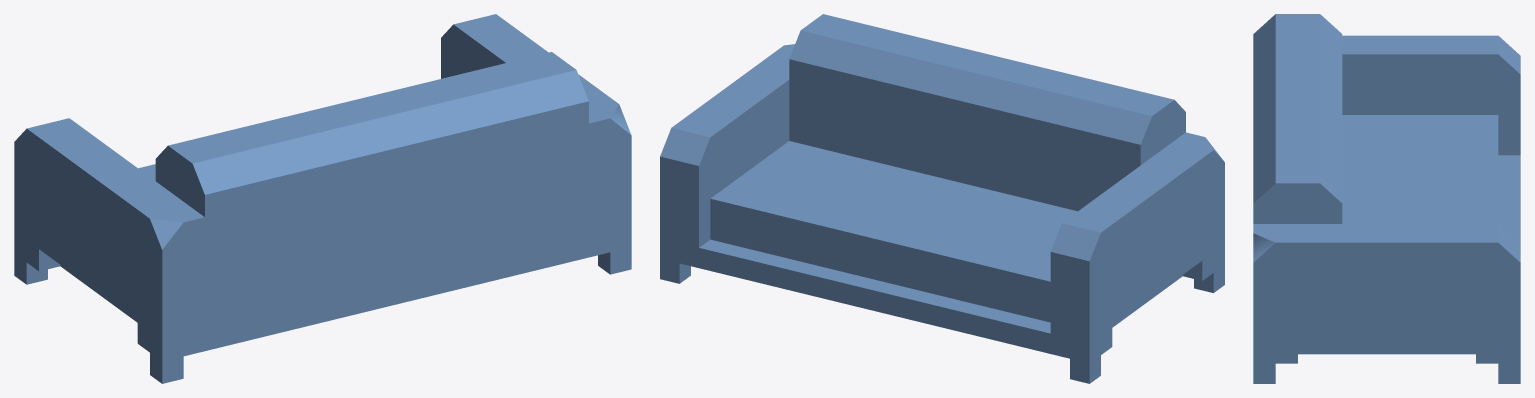
Rendered from Sofa.glb.
The picture shows the model from 3 angles, left to right: view 1: azimuth 30°, elevation 25°; view 2: azimuth 150°, elevation 25°; view 3: azimuth 270°, elevation 25°; orthographic projection. The views are drawn at different scales.
Parts seen in each view (by area): view 1: Sofa; view 2: Sofa; view 3: Sofa.
Part boxes in pixels (x1,y1,x2,y2): Sofa: (14, 14, 631, 383); Sofa: (660, 14, 1224, 383); Sofa: (1253, 14, 1520, 383).
Size of the model in its own units: 1.76 by 0.72 by 0.96.
